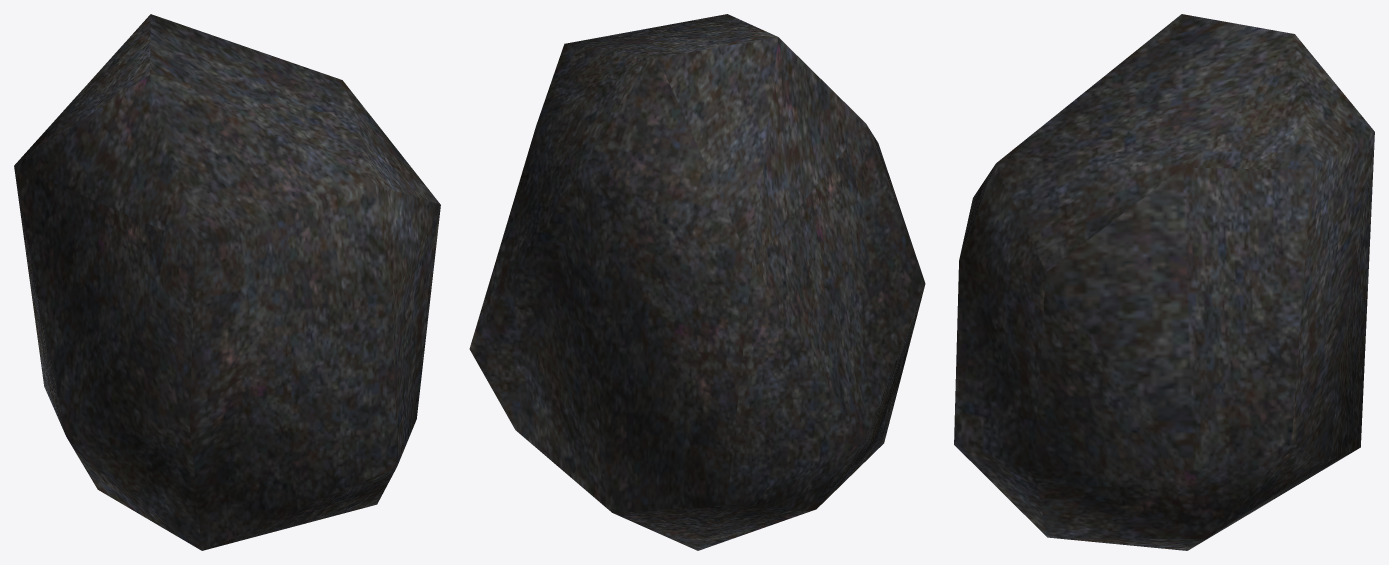
Rendered from asteroid_metal_small_s02_l3.fbx.
The picture shows the model from 3 angles, left to right: view 1: azimuth 30°, elevation 25°; view 2: azimuth 150°, elevation 25°; view 3: azimuth 270°, elevation 25°; orthographic projection. The views are drawn at different scales.
Parts seen in each view (by area): view 1: mesh_node; view 2: mesh_node; view 3: mesh_node.
Boxes of the visible parts, left/top/right/bottom form: mesh_node: left=14, top=14, right=440, bottom=550; mesh_node: left=469, top=14, right=925, bottom=550; mesh_node: left=954, top=14, right=1374, bottom=550.
Size of the model in its own units: 21.94 by 31.95 by 23.93.
